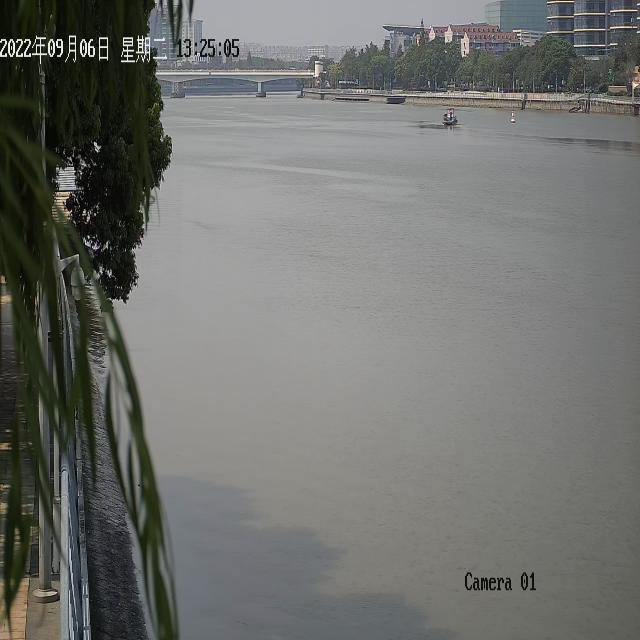ship: (442, 106, 458, 124)
